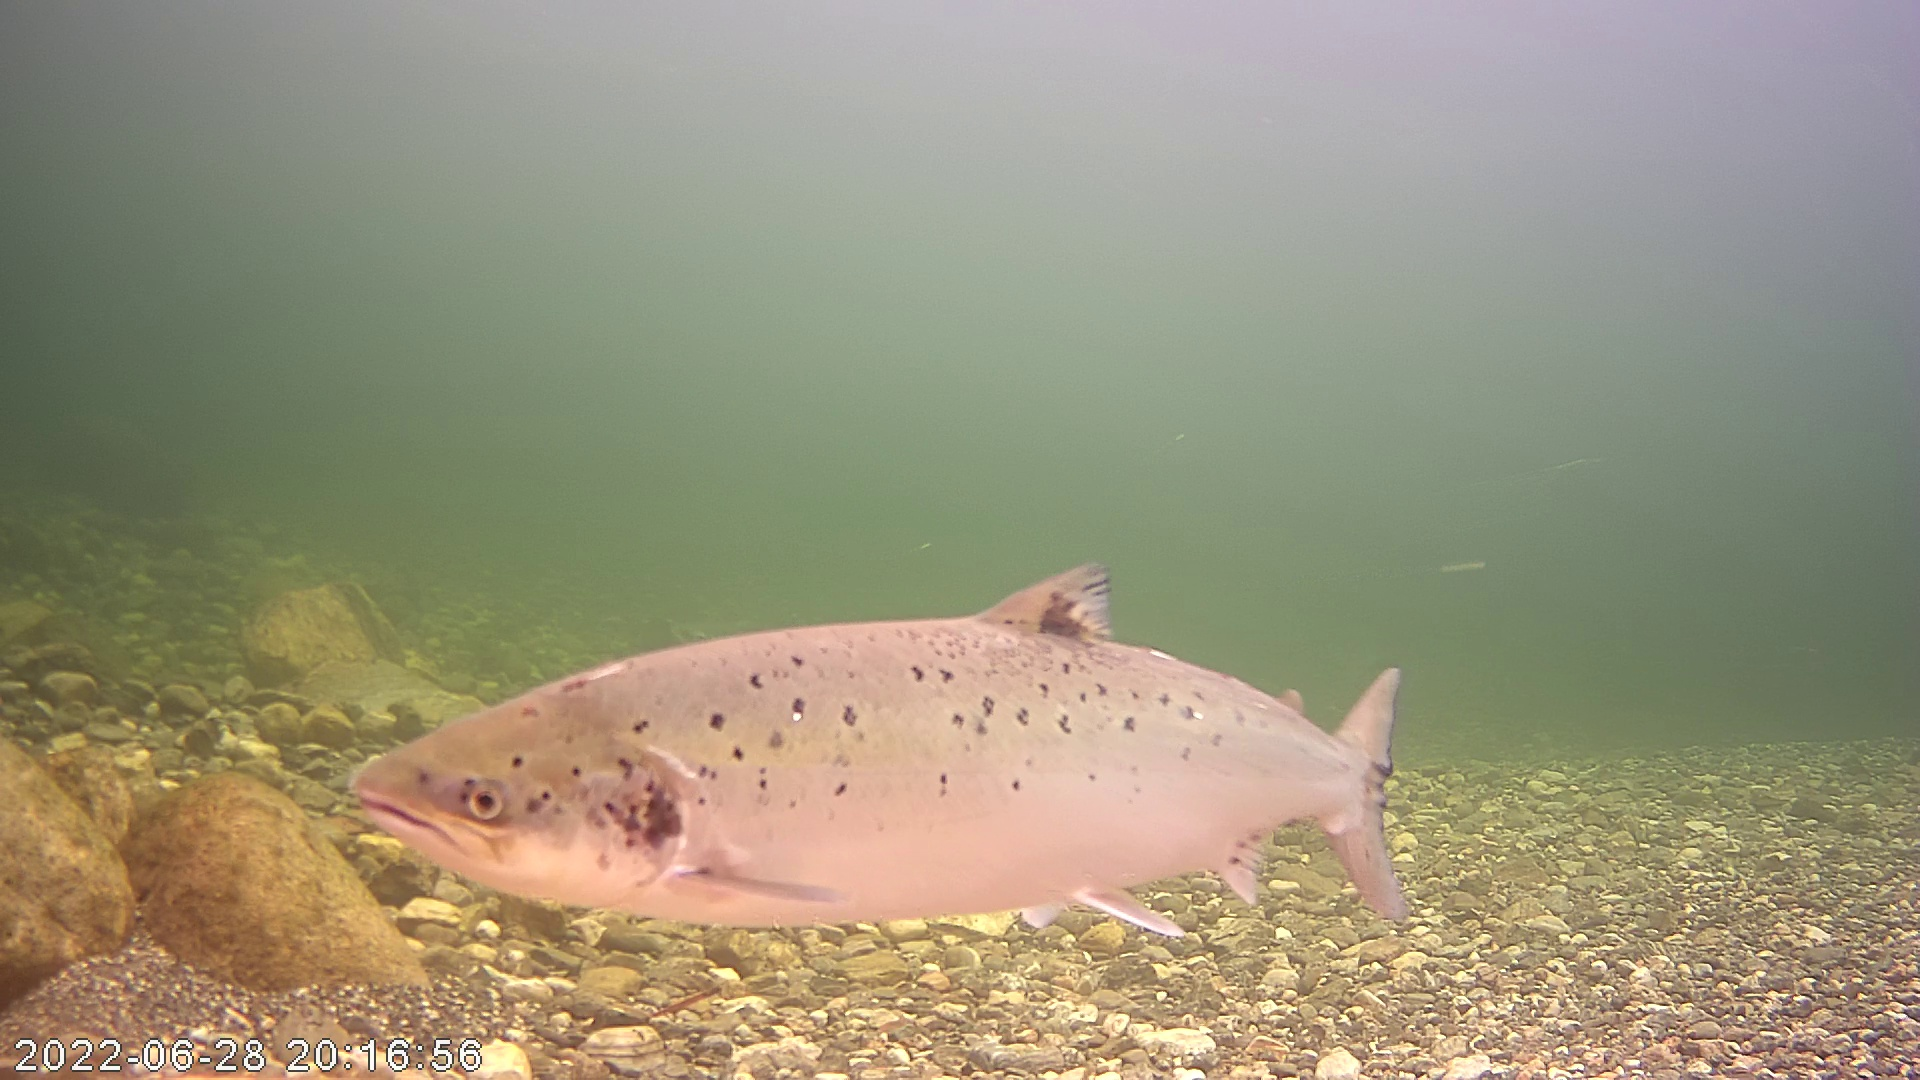salmon: (369, 485, 1451, 935)
